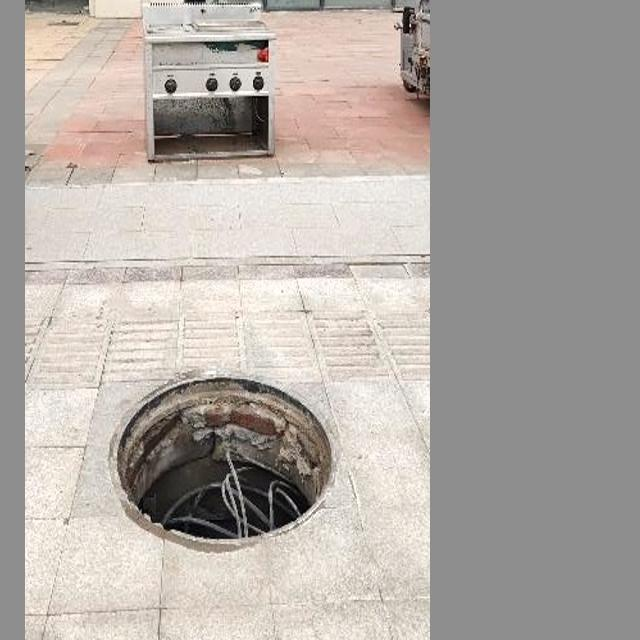lose: (90, 358, 351, 556)
